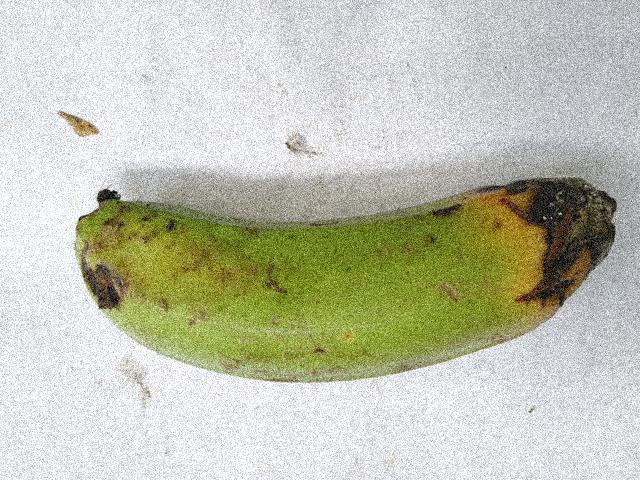unripe: (70, 182, 486, 418)
